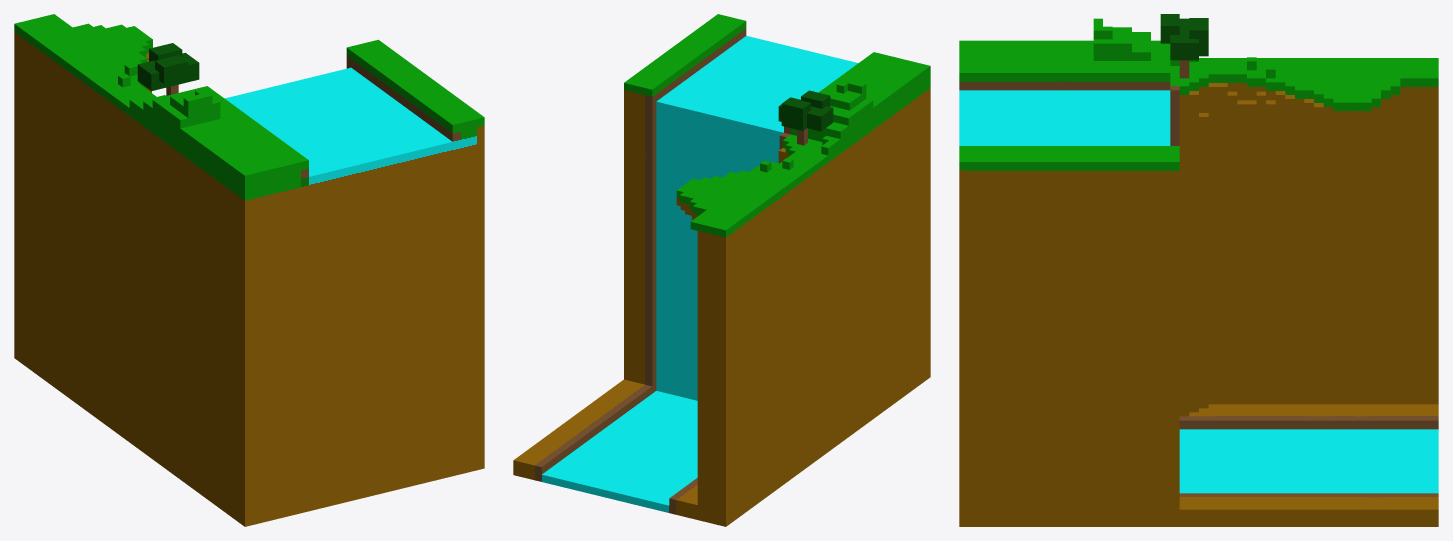
The model's file is CliffEndRight.dae.
The picture shows the model from 3 angles, left to right: view 1: azimuth 30°, elevation 25°; view 2: azimuth 150°, elevation 25°; view 3: azimuth 270°, elevation 25°; orthographic projection. The views are drawn at different scales.
Visible parts, largest first — view 1: CliffEndRight; view 2: CliffEndRight; view 3: CliffEndRight.
Boxes of the visible parts, x1,y1,x2,y2 form: CliffEndRight: (14, 14, 484, 526); CliffEndRight: (513, 14, 930, 526); CliffEndRight: (959, 14, 1438, 526).
Bounding box in the file's own units: 3 × 5 × 4.6.
1 material, 1 textured.
